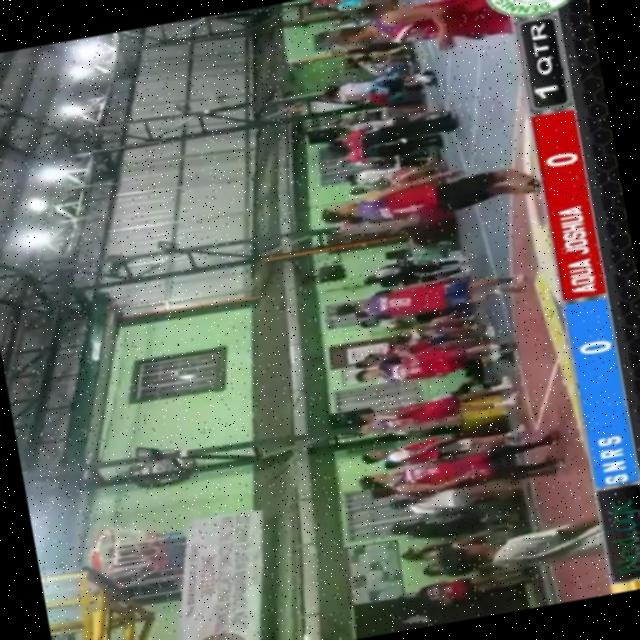ball: (384, 162, 428, 185)
hoop: (84, 520, 120, 586)
